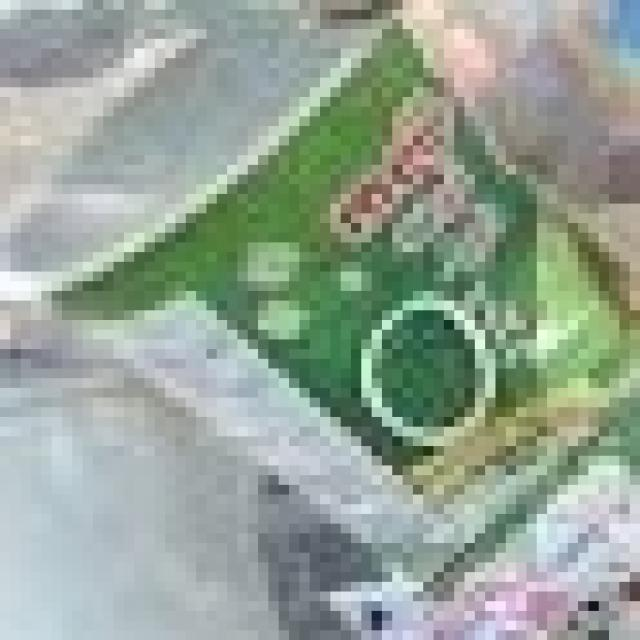plastic cup: (20, 0, 640, 601)
